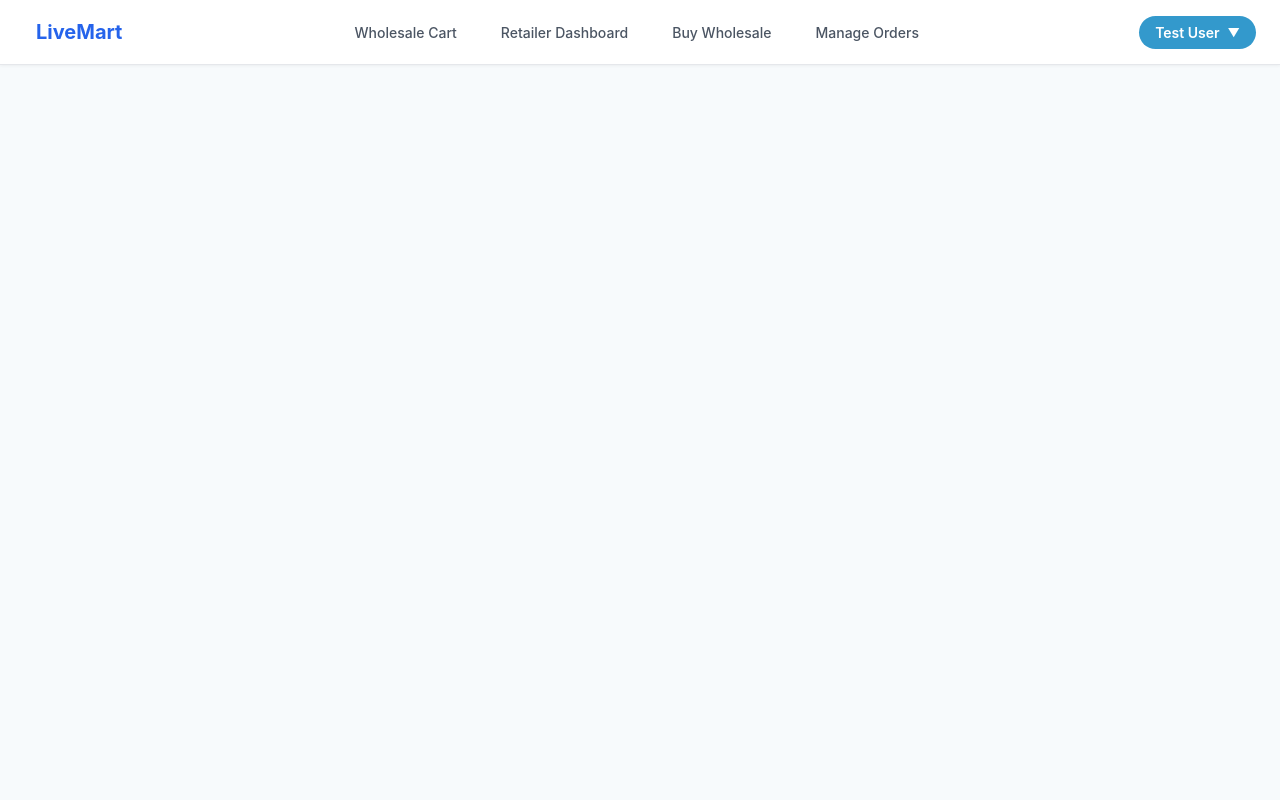
it: Navbar › closes profile menu when clicking outside
The width and height of the screenshot is (1280, 800).
// Click username button to open menu
Click the button "Test User ▼" at (1198, 32), box [1139,16,1256,48]
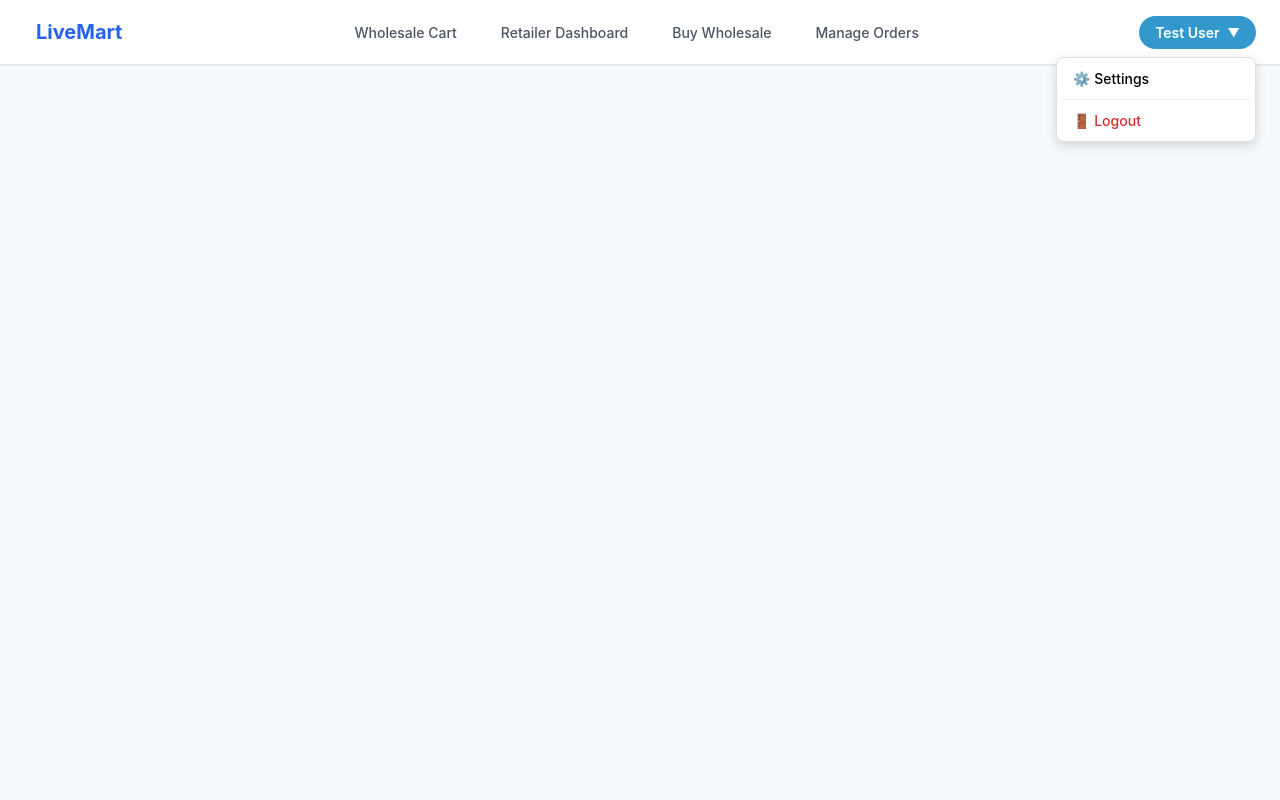
Expected: the button "⚙️ Settings" is shown, [1057,58,1255,100]
// Click outside (on the document body)
Press the mouse on the element that starts with "LiveMart" at (640, 400), box [0,0,1279,799]
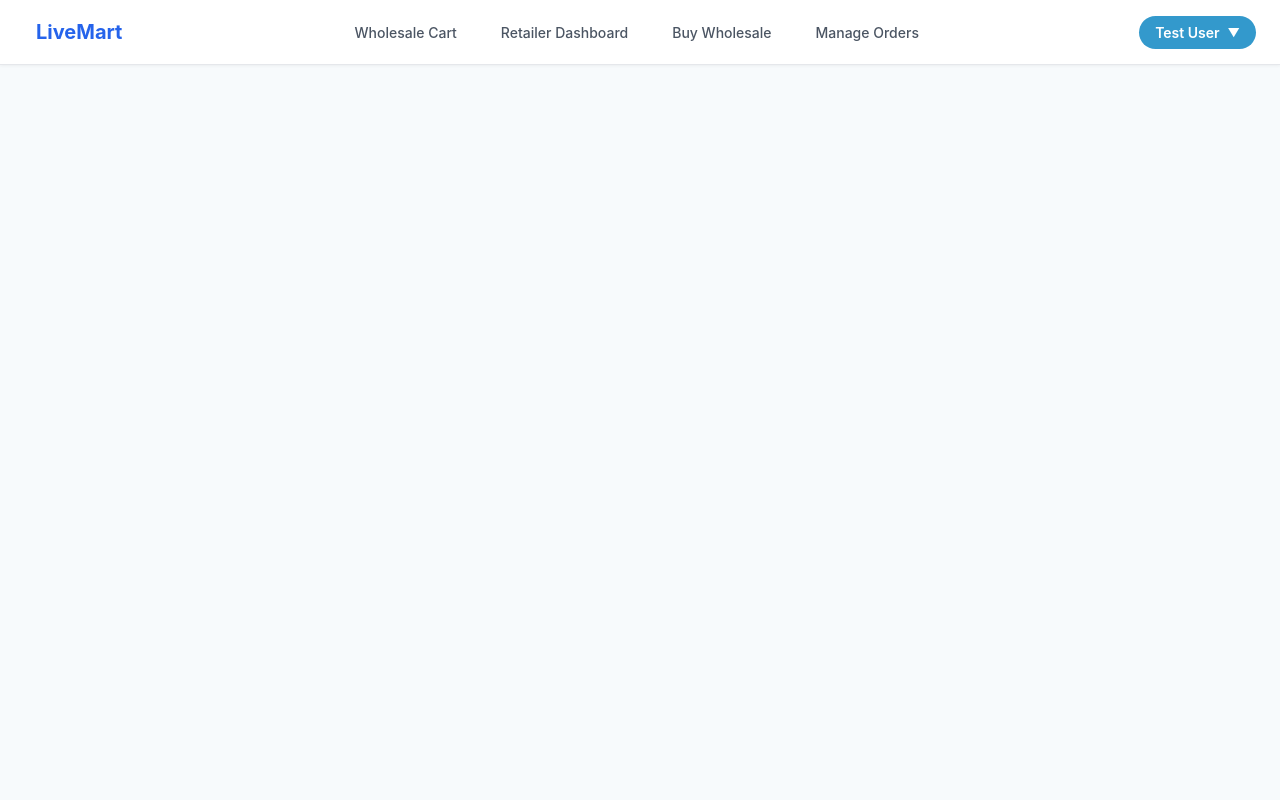
Expected: the button "Settings" is gone
